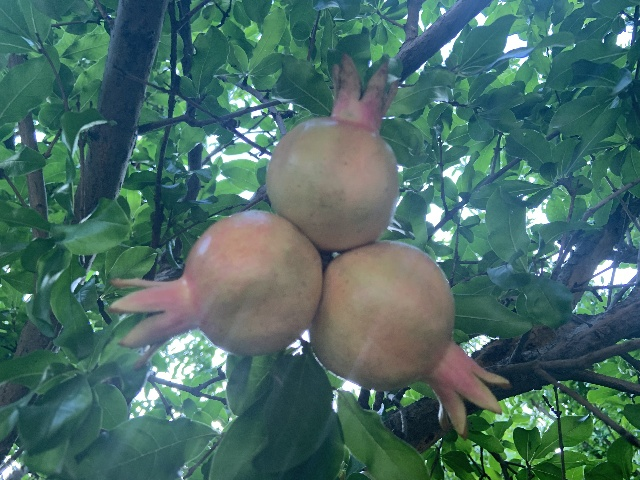mid-growth: (310, 242, 512, 440), (108, 211, 322, 365), (266, 51, 402, 248)
